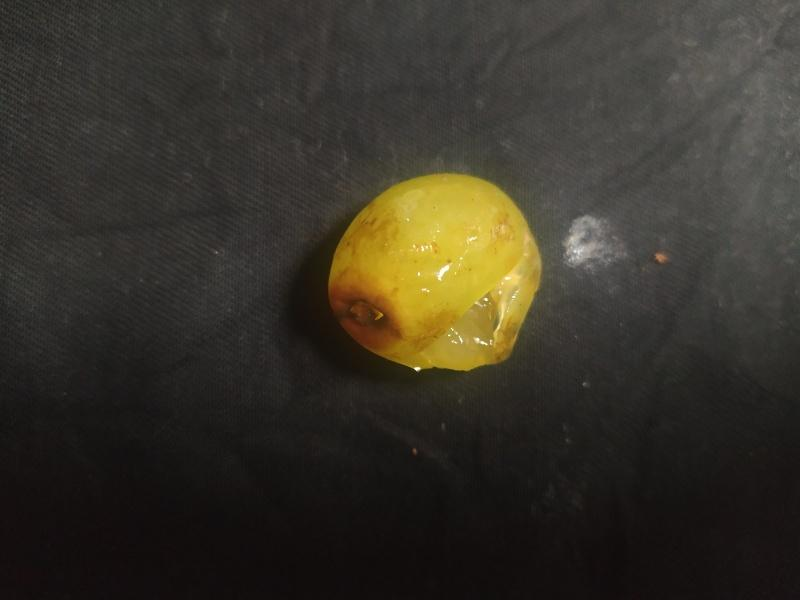Grape Overripe: (322, 170, 544, 375)
